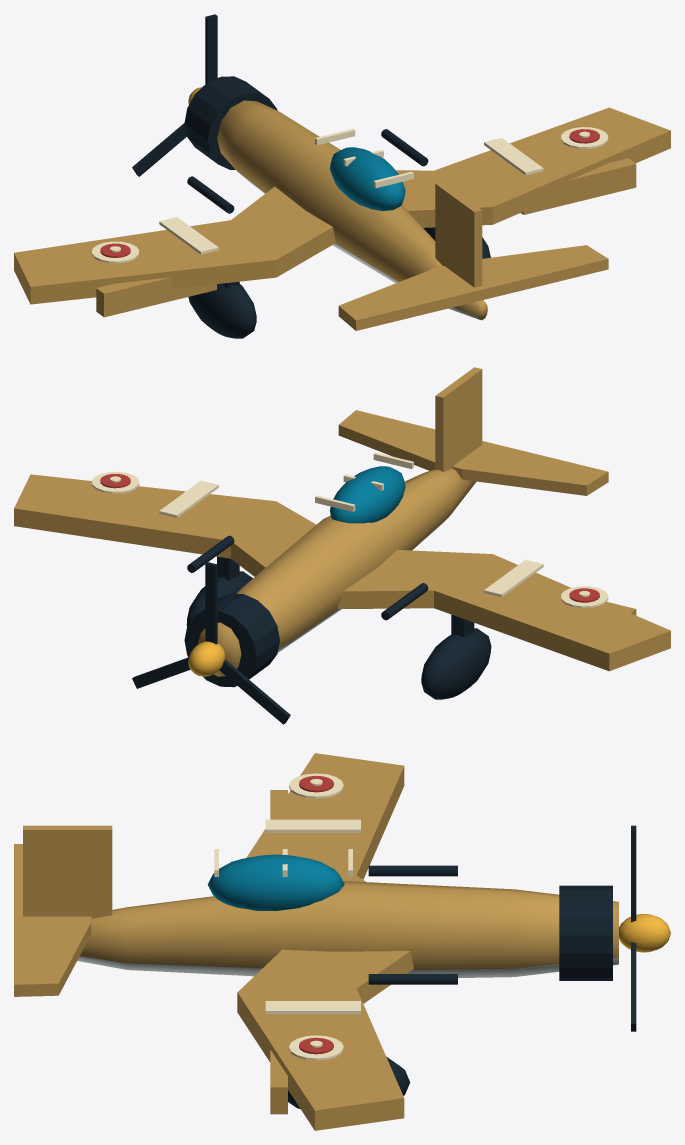
File: diver.glb
The picture shows the model from 3 angles, top to bottom: view 1: azimuth 30°, elevation 25°; view 2: azimuth 150°, elevation 25°; view 3: azimuth 270°, elevation 25°; orthographic projection. The views are drawn at different scales.
Parts seen in each view (by area): view 1: diver-diver-geometry, diver-propeller_00.009-geometry; view 2: diver-diver-geometry, diver-propeller_00.009-geometry; view 3: diver-diver-geometry, diver-propeller_00.009-geometry.
Boxes of the visible parts, x1=… form: diver-diver-geometry: x1=14, y1=76, x2=670, y2=338; diver-propeller_00.009-geometry: x1=132, y1=14, x2=217, y2=176; diver-diver-geometry: x1=14, y1=367, x2=670, y2=699; diver-propeller_00.009-geometry: x1=132, y1=562, x2=290, y2=724; diver-diver-geometry: x1=14, y1=753, x2=670, y2=1130; diver-propeller_00.009-geometry: x1=631, y1=825, x2=636, y2=1031.
Size of the model in its own units: 2.84 by 0.82 by 2.21.
